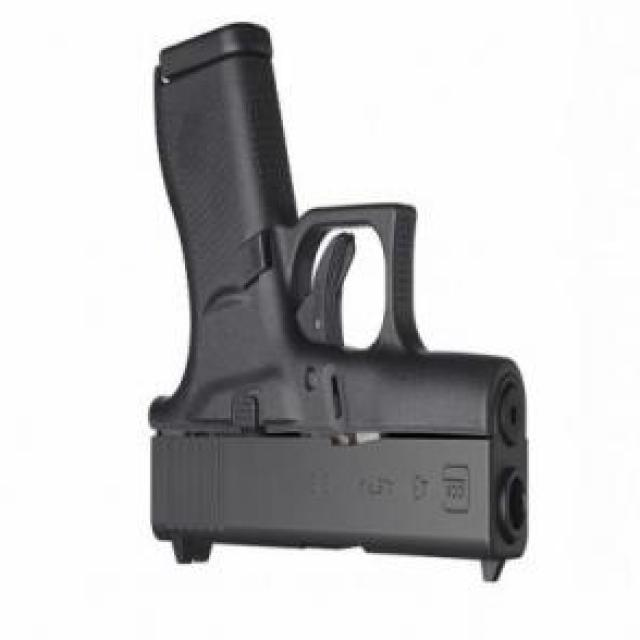pistol: (148, 18, 531, 590)
